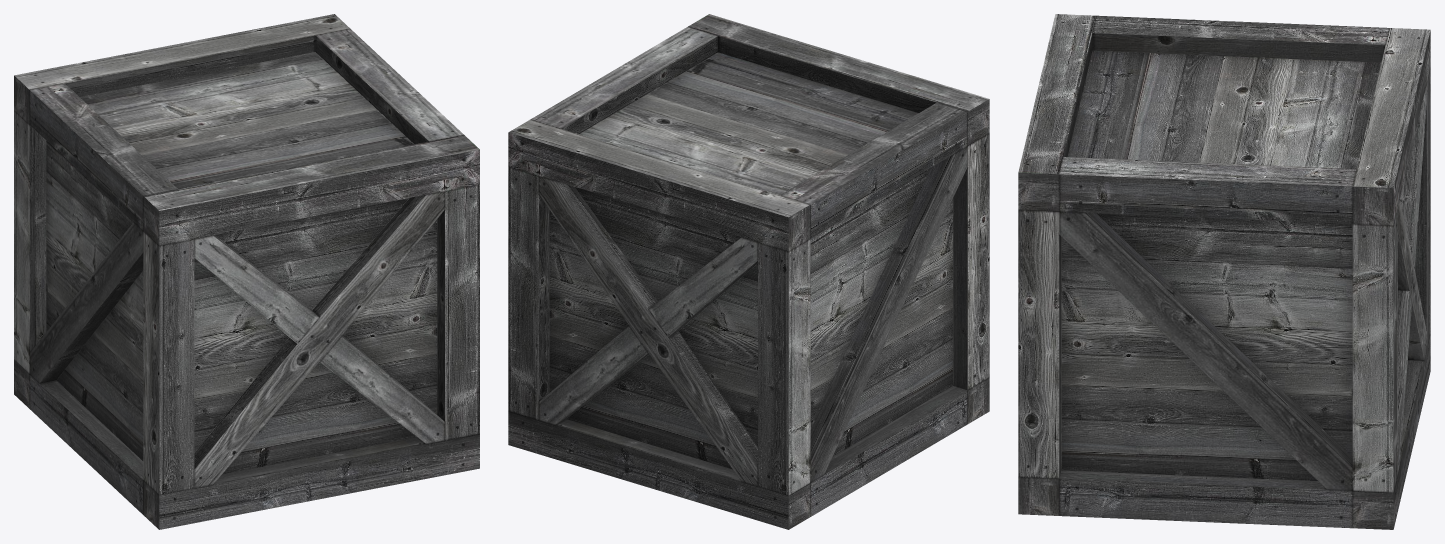
Rendered from Quandtum_LowPolyCrates.fbx.
The picture shows the model from 3 angles, left to right: view 1: azimuth 30°, elevation 25°; view 2: azimuth 150°, elevation 25°; view 3: azimuth 270°, elevation 25°; orthographic projection. The views are drawn at different scales.
Parts seen in each view (by area): view 1: Crate.Basic; view 2: Crate.Basic; view 3: Crate.Basic.
Boxes of the visible parts, <box> form: Crate.Basic: <box>14,14,479,529</box>; Crate.Basic: <box>508,14,989,529</box>; Crate.Basic: <box>1018,14,1430,529</box>.
Bounding box in the file's own units: 2.19 × 2 × 2.19.
